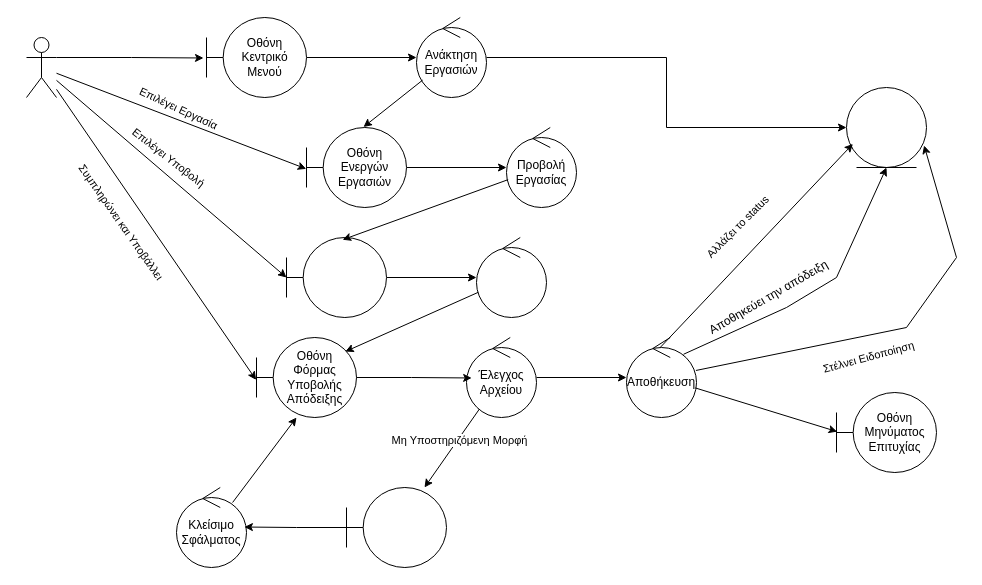
Some shapes in this 982 by 585 pixel diagram are drawn without their labels. The centre of each missing label's shape, as x and y in pixels:
"Άνοιγμα Φόρμας" goes at (511,277).
"Βάση Δεδομένων" goes at (886,127).
"Οθόνη Λεπτομερειών Εργασίας" goes at (336,277).
"Οθόνη Σφάλματος Αρχείου" goes at (396,527).
"Φοιτητής" goes at (41,67).
